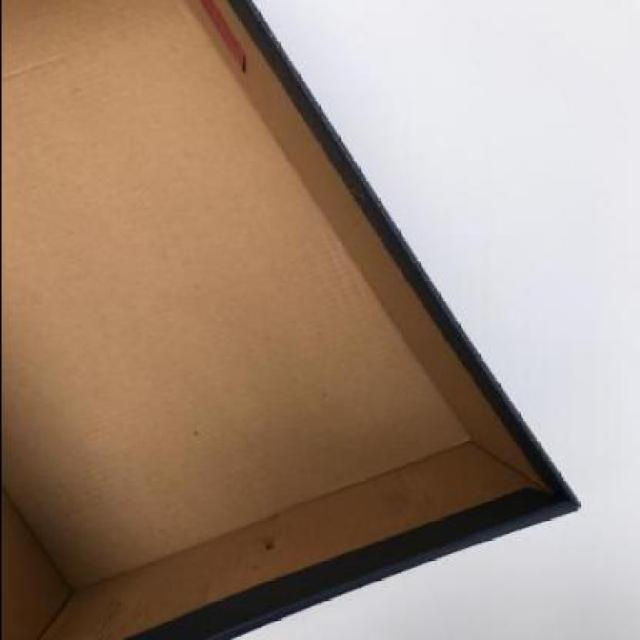CARDBOARD: (1, 0, 580, 638)
